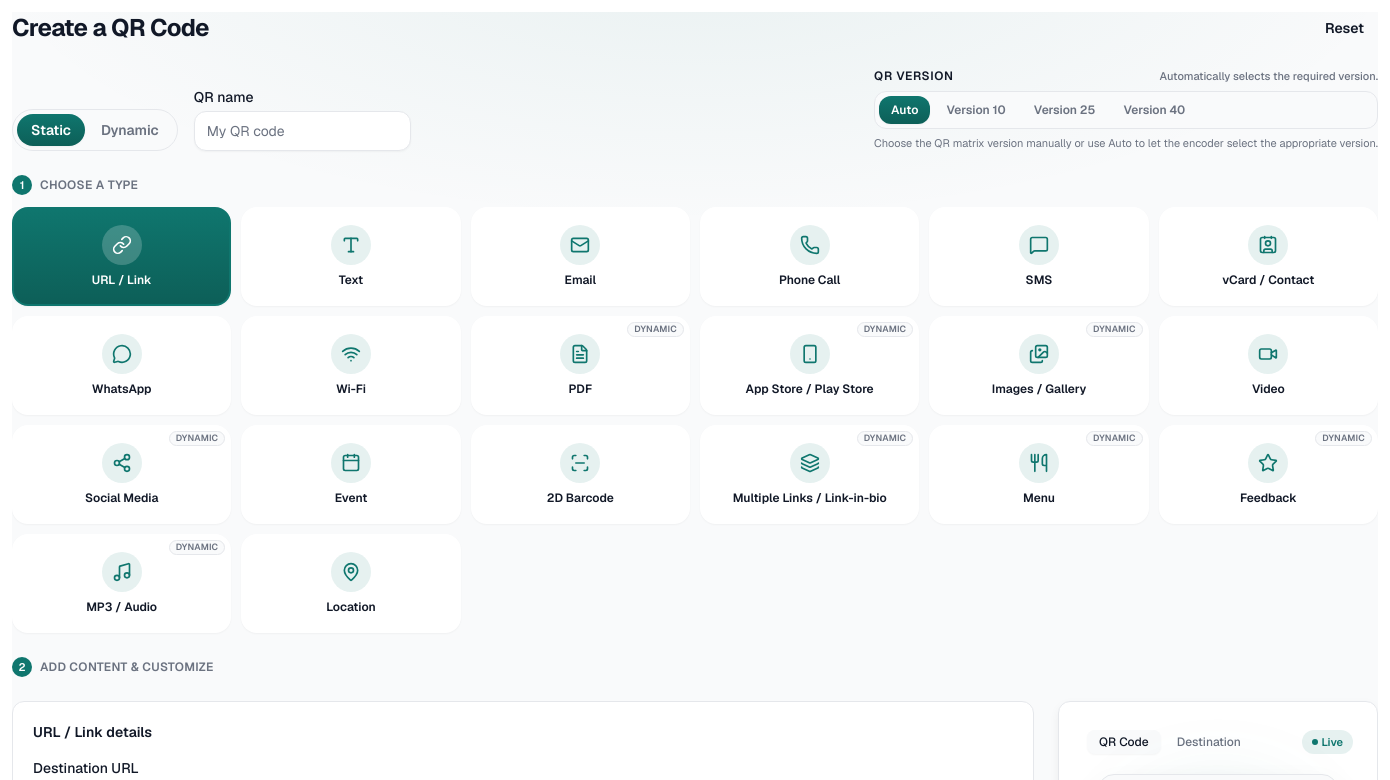
it: QRGeneratorShell › switches the content form when a different type is selected
Click the option "Text" at coordinates (351, 256), box left=241, top=207, right=461, bottom=306
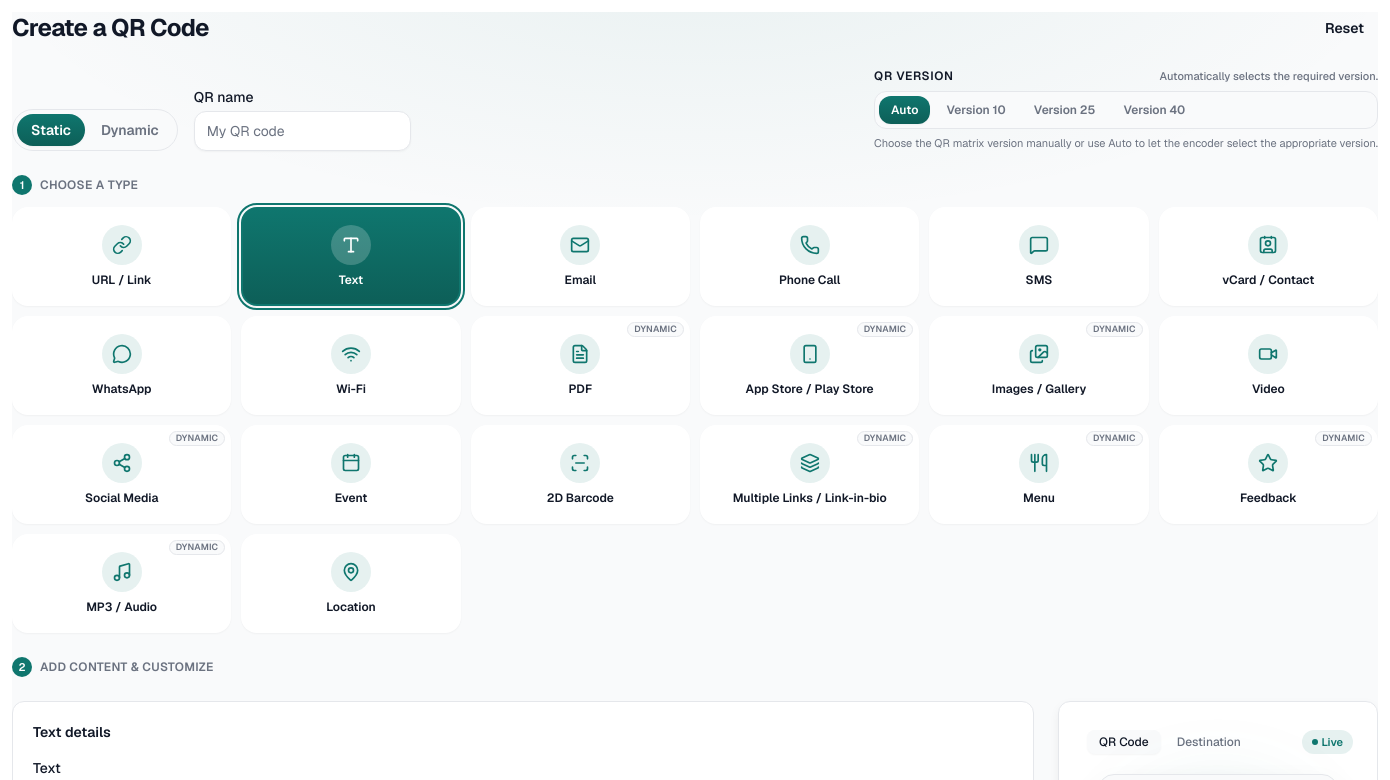
Check: the heading "Text details" is shown, box left=33, top=723, right=111, bottom=741
